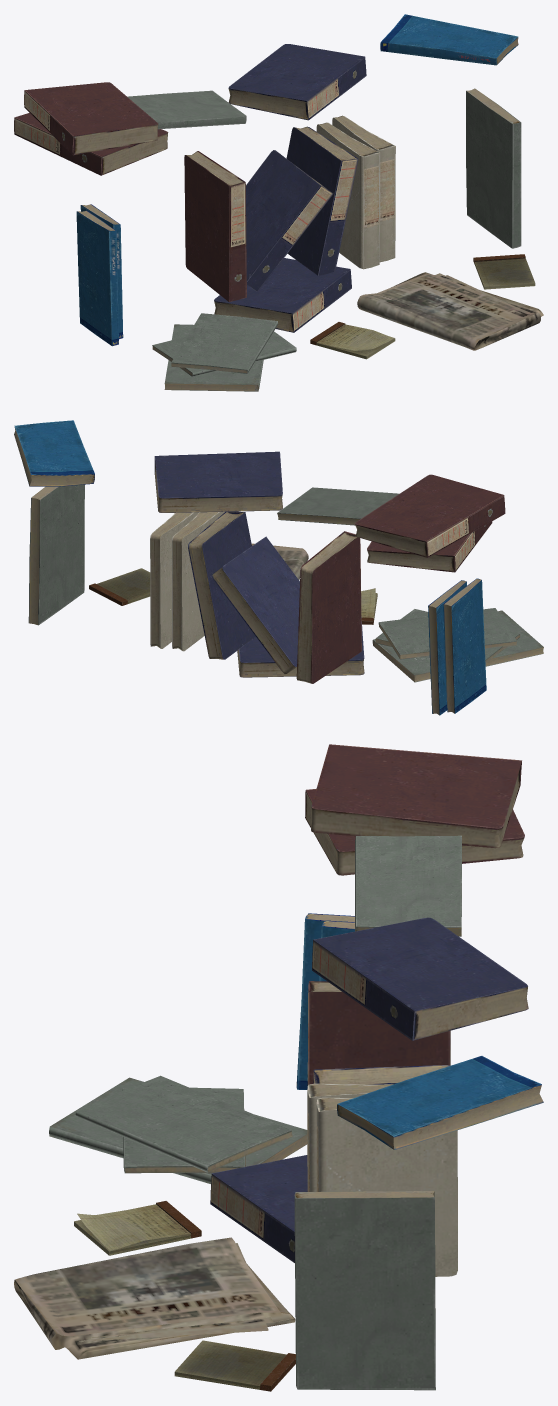
Rendered from sm39_013_deskset01d.fbx.
3 renders of one model, top to bottom at view 1: azimuth 30°, elevation 25°; view 2: azimuth 150°, elevation 25°; view 3: azimuth 270°, elevation 25°, orthographic. The views are drawn at different scales.
Visible parts, largest first — view 1: LOD_1_Group_20_Sub_1__sm36_010_Newspaper01A_A_Mat, LOD_1_Group_8_Sub_1__sm36_007_PaperWork01A_A_Mat, LOD_1_Group_2_Sub_1__sm36_007_PaperWork01A_A_Mat, LOD_1_Group_11_Sub_1__sm36_007_PaperWork01A_A_Mat, LOD_1_Group_16_Sub_1__sm36_007_PaperWork01A_A_Mat, LOD_1_Group_15_Sub_1__sm36_007_PaperWork01A_A_Mat, LOD_1_Group_3_Sub_1__sm36_007_PaperWork01A_A_Mat, LOD_1_Group_13_Sub_1__sm36_007_PaperWork01A_A_Mat, LOD_1_Group_0_Sub_1__sm36_007_PaperWork01A_A_Mat, LOD_1_Group_17_Sub_1__sm36_007_PaperWork01A_A_Mat, LOD_1_Group_1_Sub_1__sm36_007_PaperWork01A_A_Mat, LOD_1_Group_10_Sub_1__sm36_007_PaperWork01A_A_Mat (+8 smaller); view 2: LOD_1_Group_8_Sub_1__sm36_007_PaperWork01A_A_Mat, LOD_1_Group_15_Sub_1__sm36_007_PaperWork01A_A_Mat, LOD_1_Group_16_Sub_1__sm36_007_PaperWork01A_A_Mat, LOD_1_Group_2_Sub_1__sm36_007_PaperWork01A_A_Mat, LOD_1_Group_11_Sub_1__sm36_007_PaperWork01A_A_Mat, LOD_1_Group_3_Sub_1__sm36_007_PaperWork01A_A_Mat, LOD_1_Group_0_Sub_1__sm36_007_PaperWork01A_A_Mat, LOD_1_Group_1_Sub_1__sm36_007_PaperWork01A_A_Mat, LOD_1_Group_10_Sub_1__sm36_007_PaperWork01A_A_Mat, LOD_1_Group_6_Sub_1__sm36_007_PaperWork01A_A_Mat, LOD_1_Group_5_Sub_1__sm36_007_PaperWork01A_A_Mat, LOD_1_Group_17_Sub_1__sm36_007_PaperWork01A_A_Mat (+8 smaller); view 3: LOD_1_Group_2_Sub_1__sm36_007_PaperWork01A_A_Mat, LOD_1_Group_20_Sub_1__sm36_010_Newspaper01A_A_Mat, LOD_1_Group_15_Sub_1__sm36_007_PaperWork01A_A_Mat, LOD_1_Group_16_Sub_1__sm36_007_PaperWork01A_A_Mat, LOD_1_Group_17_Sub_1__sm36_007_PaperWork01A_A_Mat, LOD_1_Group_6_Sub_1__sm36_007_PaperWork01A_A_Mat, LOD_1_Group_1_Sub_1__sm36_007_PaperWork01A_A_Mat, LOD_1_Group_5_Sub_1__sm36_007_PaperWork01A_A_Mat, LOD_1_Group_8_Sub_1__sm36_007_PaperWork01A_A_Mat, LOD_1_Group_13_Sub_1__sm36_007_PaperWork01A_A_Mat, LOD_1_Group_19_Sub_1__sm36_013_Notepad01A_A_Mat, LOD_1_Group_18_Sub_1__sm36_013_Notepad01A_A_Mat (+6 smaller).
Part boxes in pixels (x1,y1,x2,y2): LOD_1_Group_20_Sub_1__sm36_010_Newspaper01A_A_Mat: [357, 272, 543, 350]; LOD_1_Group_8_Sub_1__sm36_007_PaperWork01A_A_Mat: [184, 151, 246, 301]; LOD_1_Group_2_Sub_1__sm36_007_PaperWork01A_A_Mat: [466, 88, 521, 248]; LOD_1_Group_11_Sub_1__sm36_007_PaperWork01A_A_Mat: [246, 150, 333, 291]; LOD_1_Group_16_Sub_1__sm36_007_PaperWork01A_A_Mat: [228, 44, 366, 120]; LOD_1_Group_15_Sub_1__sm36_007_PaperWork01A_A_Mat: [24, 82, 158, 155]; LOD_1_Group_3_Sub_1__sm36_007_PaperWork01A_A_Mat: [286, 126, 358, 275]; LOD_1_Group_13_Sub_1__sm36_007_PaperWork01A_A_Mat: [214, 258, 351, 332]; LOD_1_Group_0_Sub_1__sm36_007_PaperWork01A_A_Mat: [76, 210, 118, 346]; LOD_1_Group_17_Sub_1__sm36_007_PaperWork01A_A_Mat: [171, 313, 278, 373]; LOD_1_Group_1_Sub_1__sm36_007_PaperWork01A_A_Mat: [380, 14, 518, 65]; LOD_1_Group_10_Sub_1__sm36_007_PaperWork01A_A_Mat: [316, 122, 380, 269]; LOD_1_Group_8_Sub_1__sm36_007_PaperWork01A_A_Mat: [296, 531, 361, 683]; LOD_1_Group_15_Sub_1__sm36_007_PaperWork01A_A_Mat: [354, 474, 505, 557]; LOD_1_Group_16_Sub_1__sm36_007_PaperWork01A_A_Mat: [154, 451, 282, 512]; LOD_1_Group_2_Sub_1__sm36_007_PaperWork01A_A_Mat: [28, 484, 84, 625]; LOD_1_Group_11_Sub_1__sm36_007_PaperWork01A_A_Mat: [211, 536, 299, 673]; LOD_1_Group_3_Sub_1__sm36_007_PaperWork01A_A_Mat: [188, 511, 255, 659]; LOD_1_Group_0_Sub_1__sm36_007_PaperWork01A_A_Mat: [443, 578, 486, 713]; LOD_1_Group_1_Sub_1__sm36_007_PaperWork01A_A_Mat: [14, 420, 94, 486]; LOD_1_Group_10_Sub_1__sm36_007_PaperWork01A_A_Mat: [172, 511, 224, 651]; LOD_1_Group_6_Sub_1__sm36_007_PaperWork01A_A_Mat: [150, 512, 198, 648]; LOD_1_Group_5_Sub_1__sm36_007_PaperWork01A_A_Mat: [277, 487, 399, 525]; LOD_1_Group_17_Sub_1__sm36_007_PaperWork01A_A_Mat: [378, 608, 516, 659]; LOD_1_Group_2_Sub_1__sm36_007_PaperWork01A_A_Mat: [294, 1191, 435, 1390]; LOD_1_Group_20_Sub_1__sm36_010_Newspaper01A_A_Mat: [14, 1237, 295, 1359]; LOD_1_Group_15_Sub_1__sm36_007_PaperWork01A_A_Mat: [311, 744, 521, 848]; LOD_1_Group_16_Sub_1__sm36_007_PaperWork01A_A_Mat: [312, 917, 528, 1040]; LOD_1_Group_17_Sub_1__sm36_007_PaperWork01A_A_Mat: [75, 1075, 292, 1172]; LOD_1_Group_6_Sub_1__sm36_007_PaperWork01A_A_Mat: [316, 1097, 457, 1276]; LOD_1_Group_1_Sub_1__sm36_007_PaperWork01A_A_Mat: [337, 1056, 543, 1149]; LOD_1_Group_5_Sub_1__sm36_007_PaperWork01A_A_Mat: [355, 835, 461, 936]; LOD_1_Group_8_Sub_1__sm36_007_PaperWork01A_A_Mat: [307, 981, 450, 1085]; LOD_1_Group_13_Sub_1__sm36_007_PaperWork01A_A_Mat: [210, 1155, 307, 1262]; LOD_1_Group_19_Sub_1__sm36_013_Notepad01A_A_Mat: [74, 1201, 201, 1255]; LOD_1_Group_18_Sub_1__sm36_013_Notepad01A_A_Mat: [174, 1340, 295, 1391].
Bounding box in the file's own units: 1.41 × 0.6114 × 0.897.
